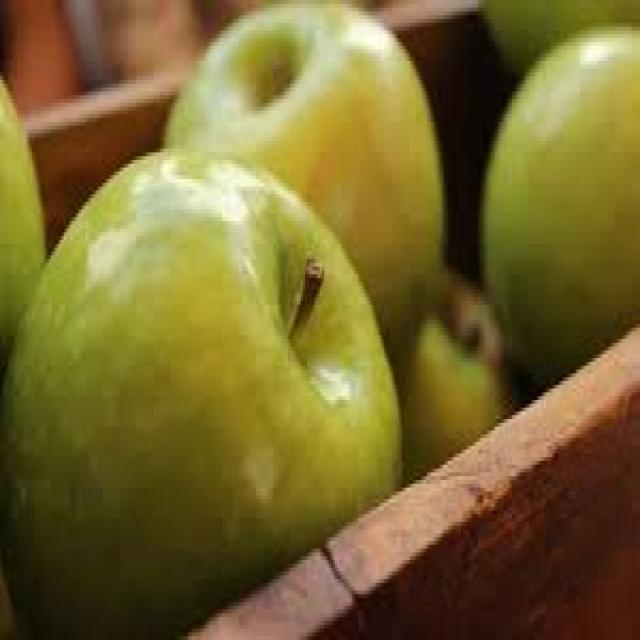organic waste: (0, 145, 401, 636), (156, 0, 446, 328), (476, 15, 638, 381), (395, 270, 518, 488), (0, 68, 47, 370), (471, 0, 638, 69)
